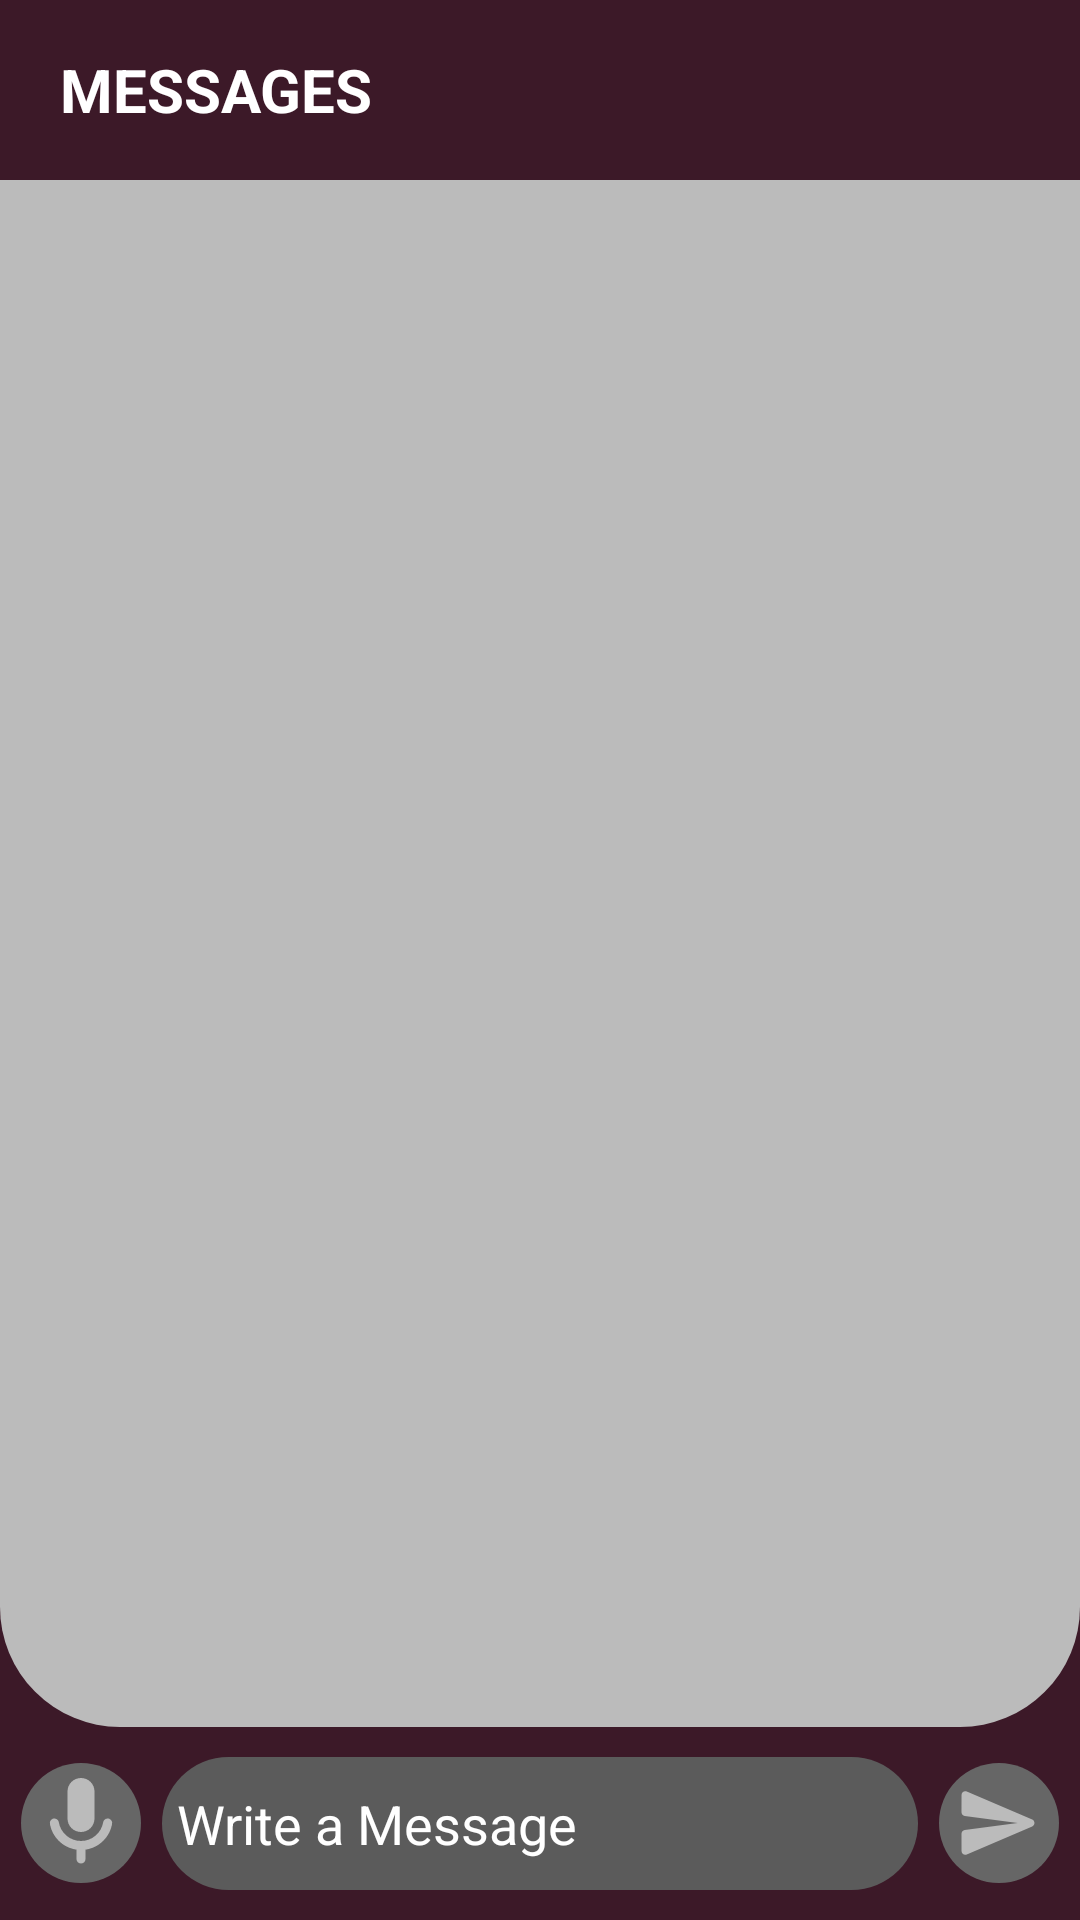

Point at icon controls on the screen. Image size 1080px x 1920px, points as point (x, y).
mic: point (81, 1823)
send: point (999, 1823)
